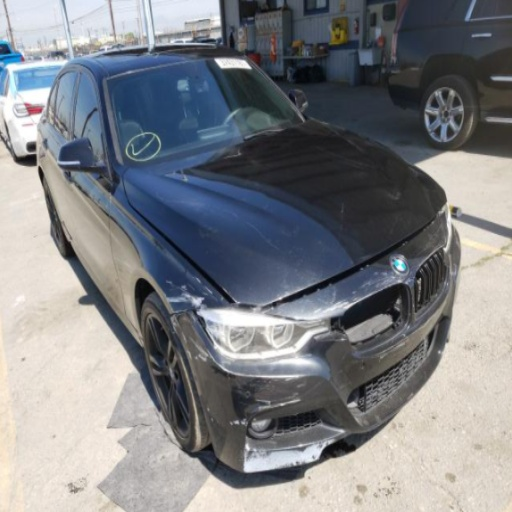dent: (337, 143, 408, 211)
scratch: (243, 439, 338, 476), (164, 276, 206, 307), (254, 390, 302, 413), (185, 335, 210, 364), (377, 340, 407, 362), (169, 314, 188, 346), (194, 274, 214, 296), (230, 419, 248, 427)
